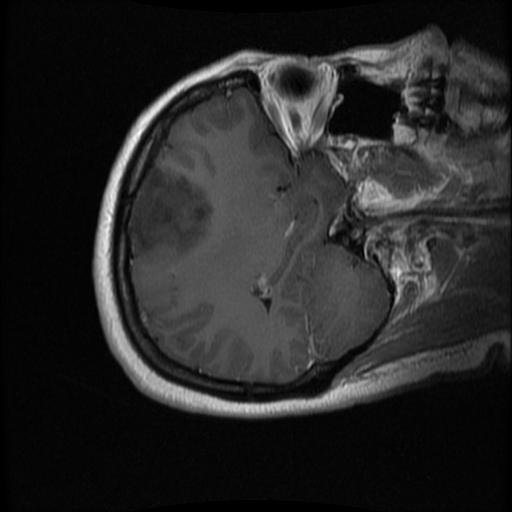glioma: (127, 170, 211, 256)
